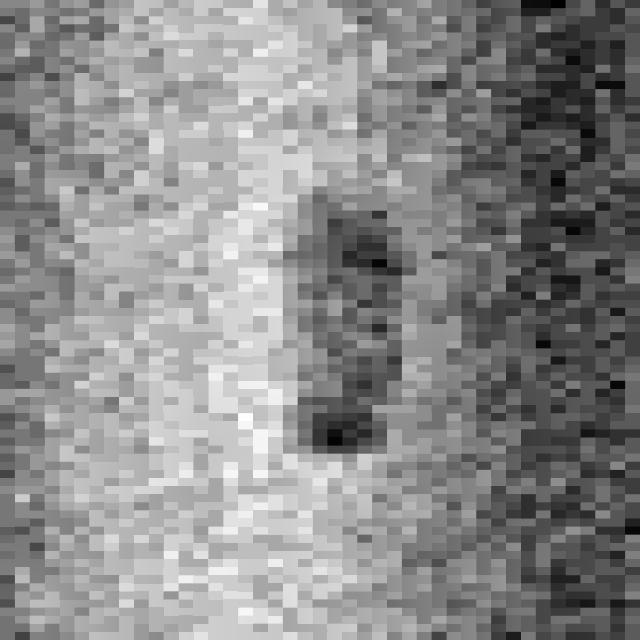porosity: (317, 273, 339, 302)
